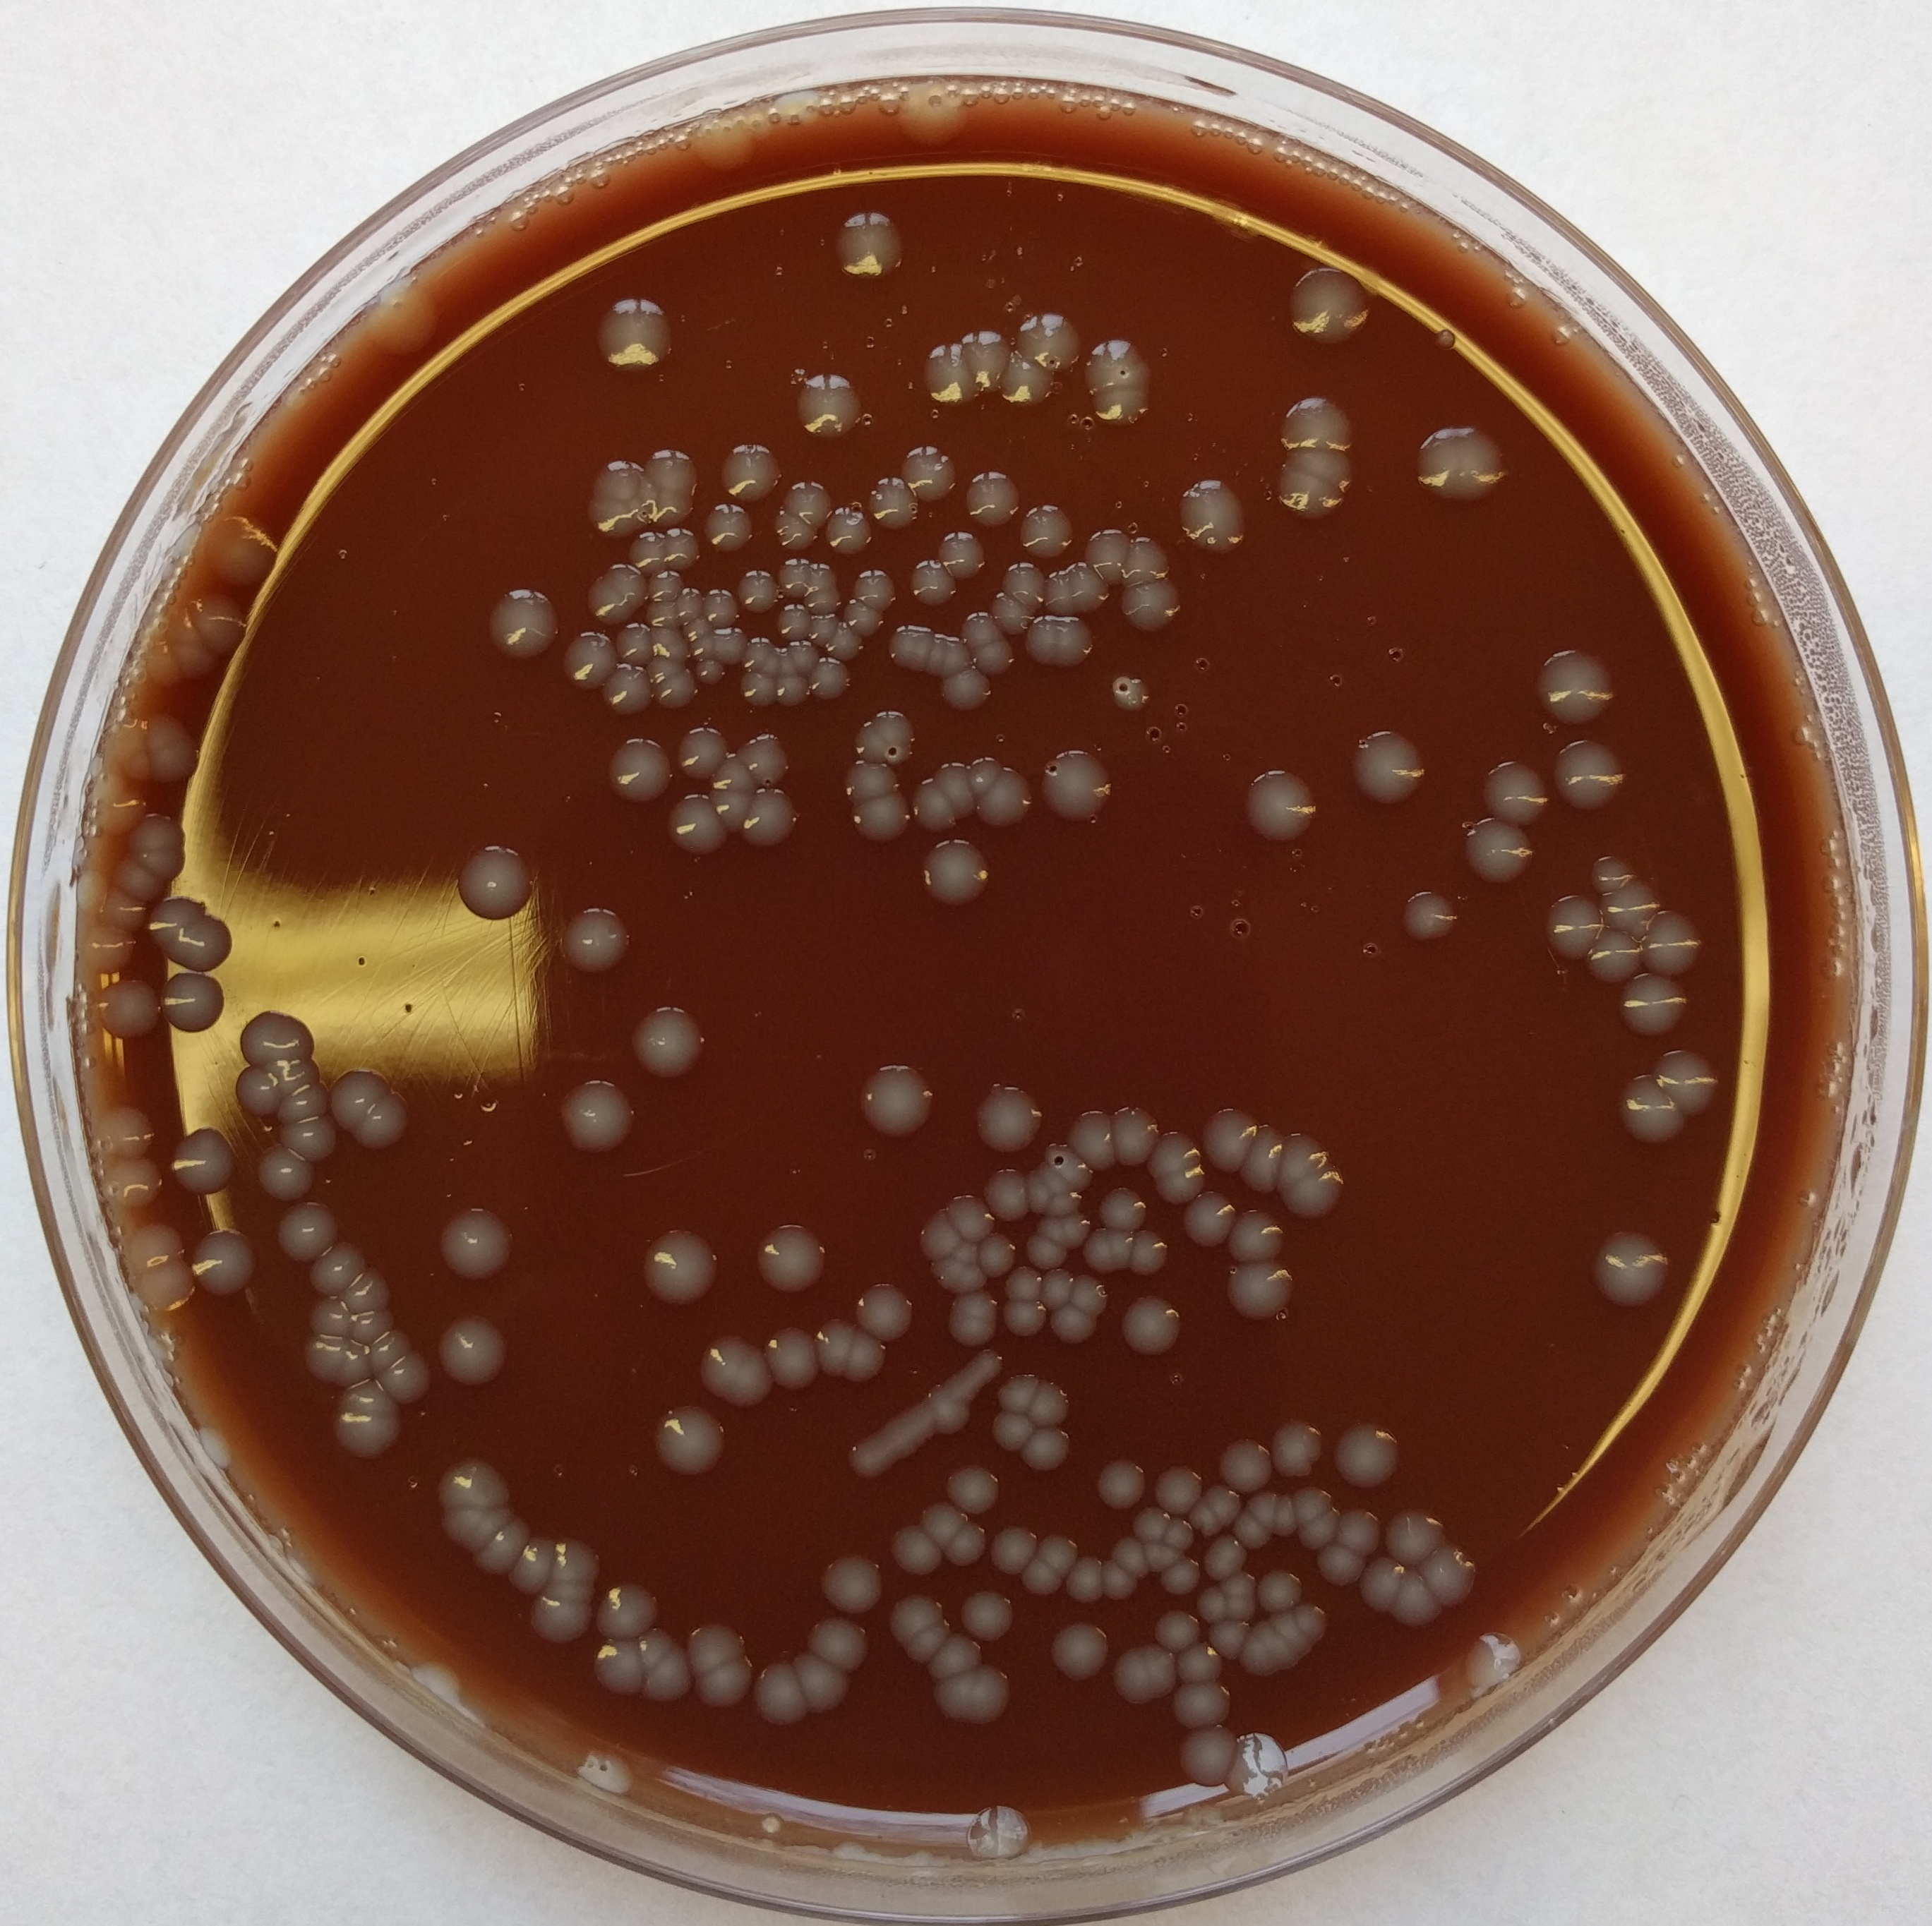sp02: (907, 776, 995, 915), (1279, 250, 1374, 349), (1412, 422, 1505, 510), (632, 1222, 723, 1309), (431, 1205, 528, 1286), (1531, 640, 1620, 728), (549, 1078, 642, 1161), (450, 840, 540, 924), (840, 755, 917, 852), (1237, 764, 1329, 845), (642, 1399, 732, 1480), (1588, 1228, 1674, 1310), (589, 296, 678, 377), (857, 1056, 939, 1145), (891, 74, 979, 155), (626, 1004, 713, 1085), (1350, 725, 1429, 813), (1034, 743, 1115, 827), (692, 1333, 780, 1411), (1607, 1076, 1696, 1152), (550, 903, 635, 981), (476, 584, 559, 661), (750, 1217, 833, 1295), (923, 1668, 1018, 1736), (431, 1312, 513, 1388), (166, 1123, 240, 1208), (787, 367, 865, 444), (85, 977, 168, 1048), (1553, 737, 1629, 813), (1175, 480, 1249, 557), (1632, 905, 1710, 979), (1330, 1420, 1408, 1494), (826, 212, 905, 282), (1276, 393, 1357, 462), (303, 1238, 376, 1314), (157, 963, 229, 1039), (205, 515, 281, 587), (685, 106, 760, 178), (1479, 753, 1549, 831), (363, 287, 441, 358), (1221, 1259, 1304, 1325), (1653, 1042, 1727, 1115), (185, 1229, 261, 1300), (1464, 810, 1533, 887), (434, 1494, 517, 1557), (812, 1550, 889, 1617), (1115, 1288, 1187, 1358), (976, 1085, 1048, 1155), (589, 1580, 663, 1649), (438, 1457, 513, 1524), (461, 1517, 535, 1584), (607, 732, 670, 810), (1572, 922, 1650, 986), (1078, 330, 1147, 400), (1043, 1619, 1113, 1688), (790, 1651, 861, 1720), (1267, 462, 1344, 524), (1233, 1118, 1293, 1198), (236, 1009, 316, 1069), (1599, 877, 1666, 947), (272, 1199, 342, 1266), (1281, 441, 1362, 499), (1614, 972, 1689, 1035), (1422, 1534, 1482, 1612), (956, 1806, 1036, 1864), (713, 439, 783, 504), (672, 802, 745, 866), (129, 1258, 203, 1319), (97, 1145, 166, 1210), (1396, 884, 1466, 947), (1540, 891, 1604, 961), (1276, 1162, 1355, 1219), (1232, 1728, 1292, 1803), (330, 1407, 406, 1466), (854, 1273, 917, 1342), (325, 1060, 385, 1132), (752, 1658, 810, 1732), (764, 1323, 820, 1399), (993, 347, 1059, 413), (251, 1141, 318, 1205), (355, 1085, 418, 1152), (1272, 1127, 1332, 1198), (558, 630, 623, 693), (1016, 310, 1078, 377), (1062, 1109, 1124, 1176), (1383, 1508, 1452, 1568), (90, 1101, 159, 1161), (187, 594, 256, 654), (921, 340, 983, 406), (572, 1743, 642, 1799), (501, 1527, 558, 1598), (293, 1333, 363, 1390), (977, 757, 1032, 829), (917, 1633, 997, 1683), (143, 892, 205, 956), (1198, 1102, 1254, 1171), (1221, 1208, 1290, 1265), (813, 1310, 865, 1386), (1106, 1104, 1161, 1175), (175, 917, 236, 979), (963, 464, 1022, 529), (942, 1462, 1007, 1520), (526, 1596, 600, 1647), (801, 1616, 868, 1672), (896, 441, 956, 503), (1142, 1122, 1205, 1180), (955, 1587, 1018, 1646), (1214, 1439, 1279, 1496), (683, 1619, 748, 1676), (118, 1222, 187, 1275), (595, 663, 656, 721), (882, 1524, 944, 1582), (1173, 1725, 1235, 1783), (341, 1266, 402, 1325), (1120, 577, 1184, 633), (928, 757, 977, 829), (273, 1116, 339, 1171), (1016, 499, 1075, 559), (595, 1637, 653, 1697), (1173, 1676, 1235, 1732), (1089, 1455, 1150, 1512), (1180, 1187, 1235, 1250), (1269, 1418, 1323, 1482), (732, 792, 796, 847), (1394, 1566, 1447, 1631), (960, 333, 1011, 400), (122, 841, 196, 887), (981, 1166, 1037, 1226), (988, 1519, 1045, 1579), (940, 1189, 997, 1249), (637, 443, 699, 497), (1362, 1554, 1417, 1616), (1468, 1623, 1521, 1686), (88, 788, 152, 841), (118, 810, 191, 855), (670, 725, 729, 781), (311, 1293, 365, 1353), (1149, 1462, 1210, 1515), (378, 1351, 434, 1407), (229, 1064, 286, 1120), (1120, 531, 1173, 591), (642, 1651, 695, 1711), (549, 1531, 609, 1584), (263, 1056, 325, 1108), (339, 1374, 402, 1423), (865, 476, 919, 533), (1060, 557, 1113, 616), (1080, 526, 1129, 587), (695, 1663, 759, 1711), (109, 859, 166, 912), (1018, 610, 1066, 672), (1089, 381, 1152, 427), (884, 1596, 947, 1642), (780, 476, 833, 531), (734, 732, 787, 787), (136, 704, 192, 755), (910, 1503, 969, 1552), (909, 1208, 967, 1258), (582, 455, 642, 503), (935, 526, 988, 579), (281, 1081, 335, 1132), (166, 631, 221, 683), (937, 665, 993, 714), (1018, 1423, 1075, 1473), (933, 1522, 993, 1568), (700, 499, 752, 552), (1316, 1534, 1367, 1587), (1025, 1374, 1076, 1427), (925, 1385, 976, 1437), (976, 1229, 1023, 1286), (1045, 1139, 1096, 1191), (1060, 1552, 1112, 1603), (768, 506, 820, 556), (580, 579, 633, 628), (1293, 1503, 1346, 1552), (1254, 1566, 1307, 1616), (644, 483, 699, 531), (575, 492, 632, 538), (1002, 559, 1048, 616), (342, 1303, 399, 1349), (1046, 1303, 1105, 1347), (907, 559, 958, 608), (1099, 1183, 1149, 1235), (1018, 1233, 1069, 1282), (1198, 1534, 1249, 1584), (822, 506, 875, 554), (333, 1342, 381, 1395), (154, 735, 199, 790), (1055, 614, 1099, 670), (1099, 1222, 1142, 1280), (702, 783, 752, 832), (83, 924, 134, 972), (610, 476, 656, 529), (868, 707, 921, 753), (1583, 848, 1636, 894), (1156, 1162, 1209, 1208), (1071, 1228, 1117, 1280), (1339, 1503, 1385, 1556), (1152, 1609, 1205, 1654), (847, 1319, 884, 1385), (849, 723, 903, 767), (1106, 1653, 1150, 1707), (633, 1624, 678, 1679), (362, 1328, 416, 1372), (102, 884, 146, 938), (896, 1623, 953, 1665), (891, 619, 932, 677), (702, 751, 752, 799), (596, 561, 648, 607), (1247, 1621, 1293, 1672), (999, 1296, 1052, 1340), (1129, 1226, 1170, 1282), (1015, 1556, 1071, 1596), (1230, 1637, 1277, 1684), (1002, 1263, 1052, 1309), (990, 1407, 1036, 1457), (990, 1374, 1041, 1418), (1099, 1549, 1142, 1601), (947, 1309, 1000, 1351), (536, 1575, 610, 1605), (1205, 1619, 1262, 1658), (849, 566, 896, 612), (730, 570, 778, 616), (623, 527, 669, 575), (1106, 672, 1154, 718), (143, 640, 187, 690), (709, 619, 752, 670), (1265, 1612, 1316, 1654), (949, 1286, 1002, 1326), (805, 658, 850, 704), (655, 672, 702, 716), (775, 552, 817, 601), (986, 591, 1029, 640), (1290, 1483, 1332, 1533), (1246, 1485, 1286, 1536), (1106, 1529, 1147, 1580), (1039, 568, 1076, 623), (1172, 1647, 1226, 1684), (610, 619, 655, 665), (1228, 1508, 1274, 1552), (1036, 1527, 1078, 1575), (662, 524, 702, 573), (700, 586, 745, 630), (1037, 1268, 1082, 1312), (1200, 1482, 1244, 1526), (1069, 1275, 1112, 1321), (963, 753, 1004, 801), (972, 637, 1016, 679), (1045, 1182, 1087, 1226), (1138, 1542, 1184, 1582), (942, 631, 976, 686), (842, 598, 886, 638), (738, 668, 782, 709), (1193, 1587, 1237, 1628), (672, 584, 711, 630), (1269, 1492, 1304, 1542), (826, 617, 865, 661), (773, 605, 813, 646), (1288, 1598, 1330, 1637), (1159, 1557, 1202, 1596), (644, 651, 688, 688), (1127, 1504, 1172, 1542), (71, 871, 108, 915), (101, 718, 145, 755), (962, 614, 1007, 649), (803, 557, 836, 605), (1022, 1169, 1055, 1217), (1184, 1496, 1224, 1534), (949, 1233, 988, 1273), (651, 619, 688, 660), (1036, 1213, 1069, 1258), (1221, 1593, 1262, 1628), (775, 672, 812, 709), (783, 642, 824, 676), (642, 596, 685, 628), (1219, 1571, 1260, 1603), (925, 628, 946, 686), (690, 656, 730, 686), (648, 571, 681, 607), (1059, 1215, 1092, 1250), (739, 638, 776, 670), (925, 1247, 956, 1282), (120, 748, 152, 783), (1163, 1517, 1194, 1550), (801, 587, 840, 614), (686, 633, 725, 660), (678, 614, 715, 640), (759, 647, 787, 681), (808, 612, 835, 647)
